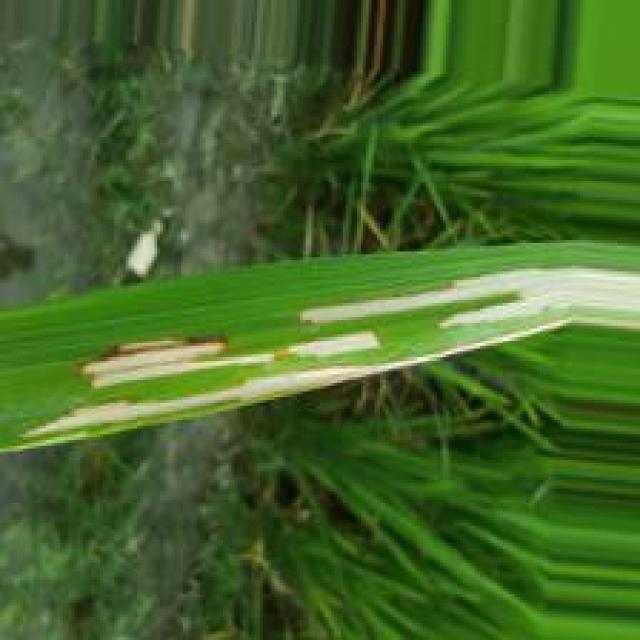Rice_Hispa: (29, 325, 573, 439), (294, 269, 640, 332), (69, 328, 376, 391)
